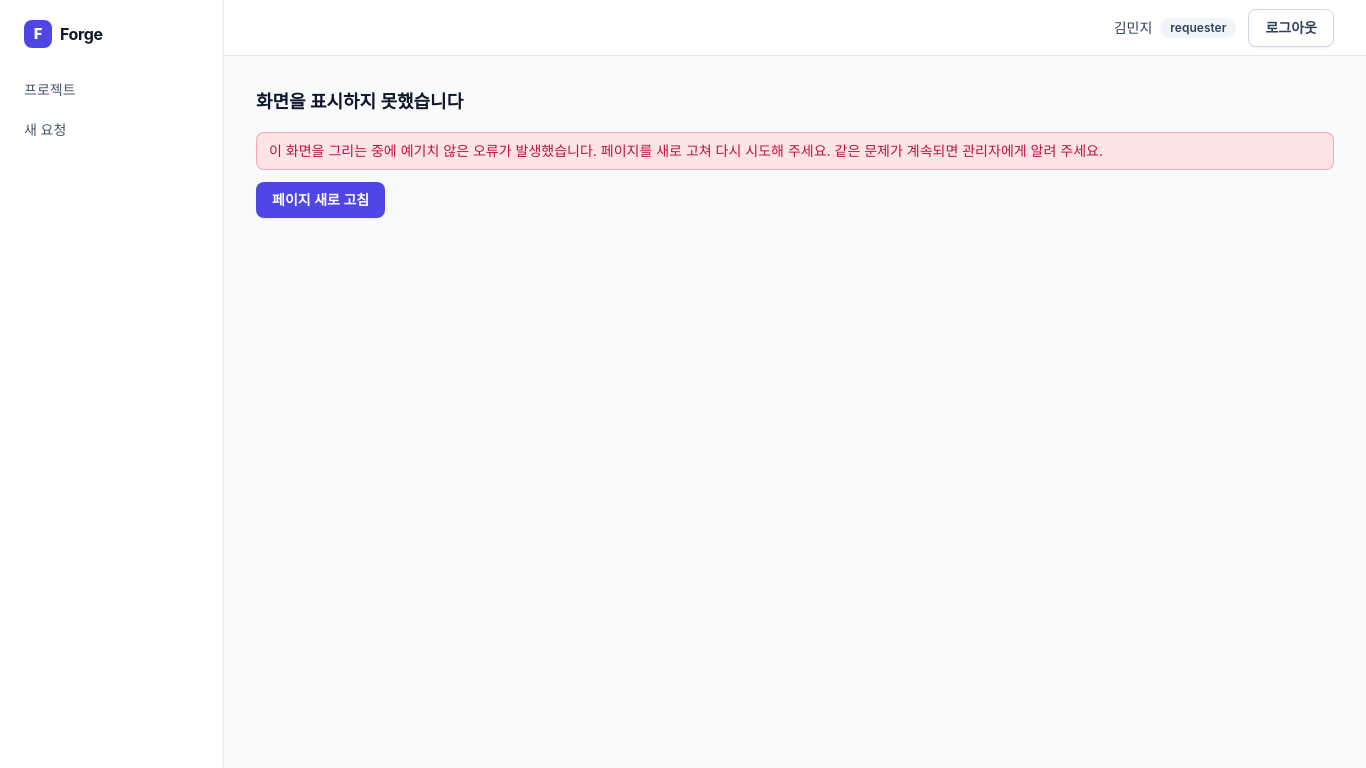
Scenario: Layout holds a boundary around the page › recovers when the user moves to another page: the fallback does not outlive the page that caused it
The width and height of the screenshot is (1366, 768).
Check: the message is shown, box [256, 132, 1334, 170]
Click the link "프로젝트": [50, 90] box [24, 81, 76, 98]
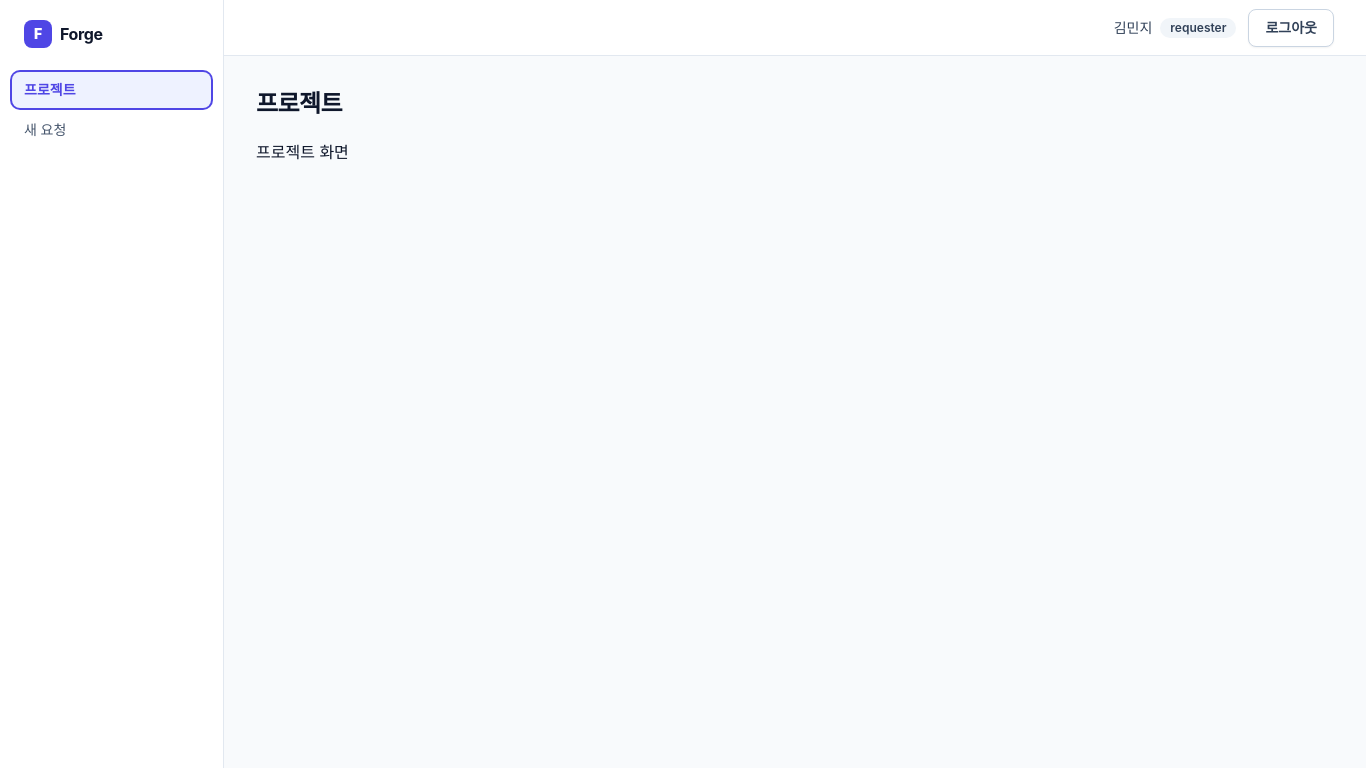
Check: the text "프로젝트 화면" is shown, box [256, 142, 349, 162]
Check: the message is gone
